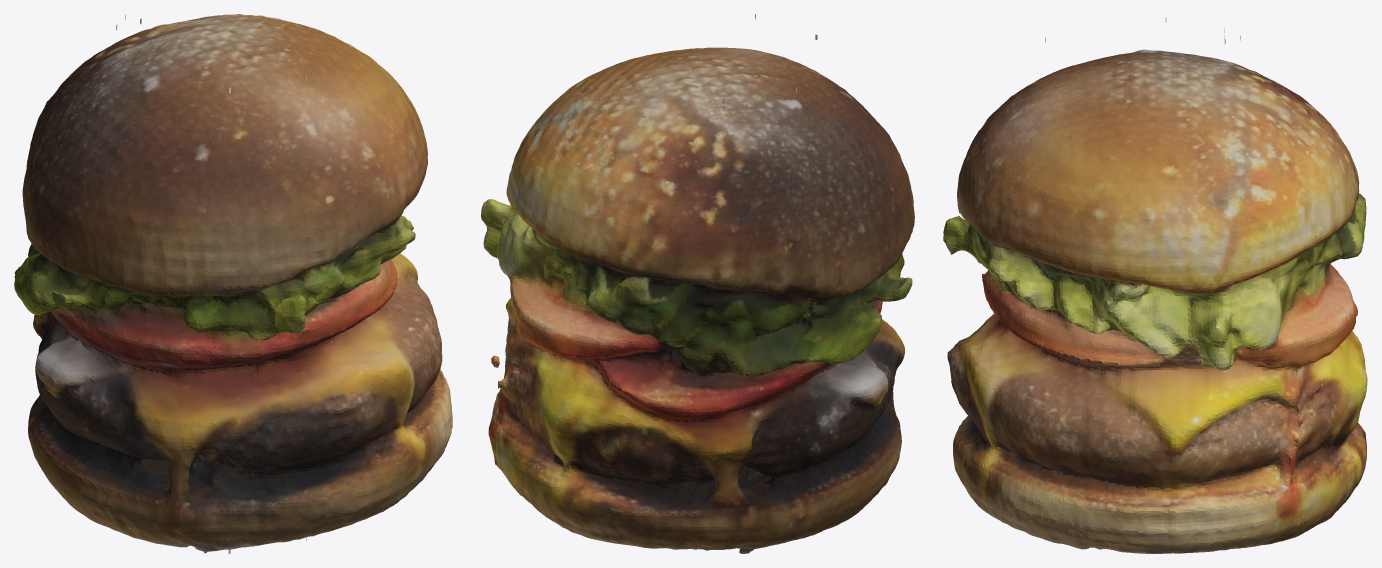
File: dish1.glb
The picture shows the model from 3 angles, left to right: view 1: azimuth 30°, elevation 25°; view 2: azimuth 150°, elevation 25°; view 3: azimuth 270°, elevation 25°; orthographic projection. The views are drawn at different scales.
Visible parts, largest first — view 1: world; view 2: world; view 3: world.
Boxes of the visible parts, x1=… form: world: x1=14, y1=14, x2=452, y2=553; world: x1=481, y1=14, x2=914, y2=553; world: x1=943, y1=18, x2=1367, y2=553.
Bounding box in the file's own units: 1.85 × 2.08 × 1.78.
